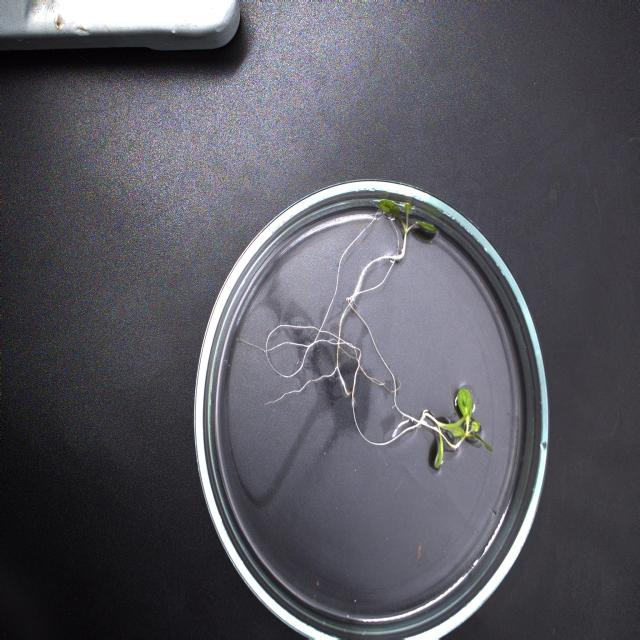leaf: (443, 387, 491, 454)
root: (234, 209, 440, 448)
steb: (441, 433, 468, 451), (438, 420, 449, 432)
